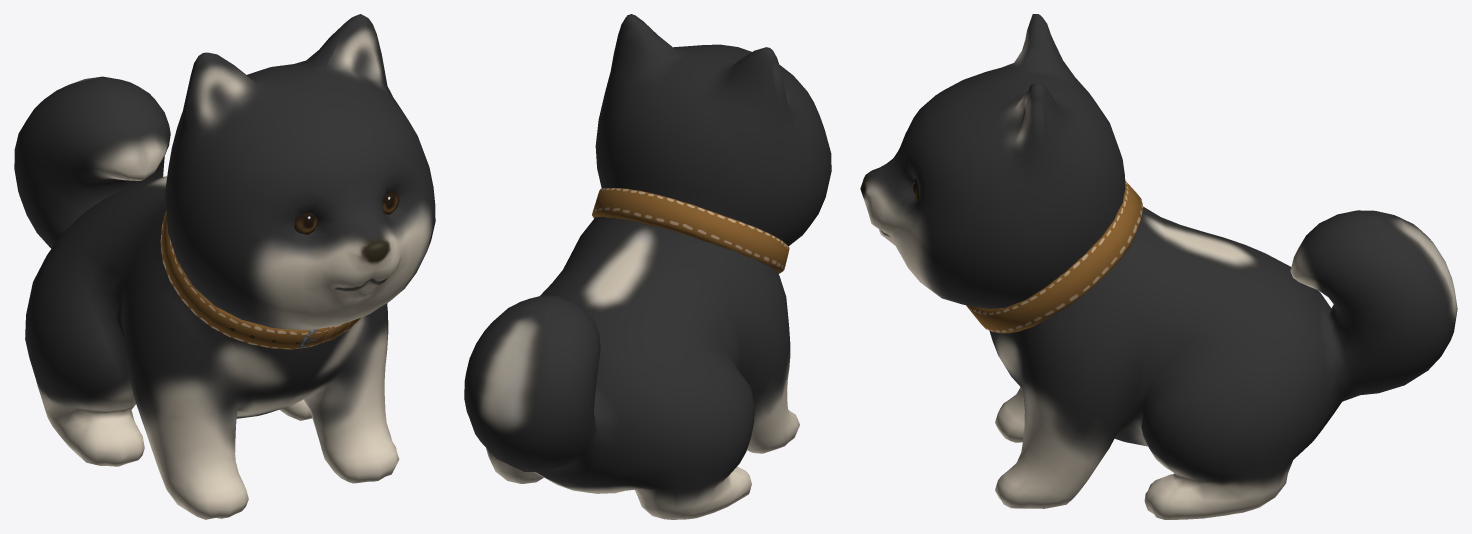
File: shiba2.glb
3 renders of one model, left to right at view 1: azimuth 30°, elevation 25°; view 2: azimuth 150°, elevation 25°; view 3: azimuth 270°, elevation 25°, orthographic. The views are drawn at different scales.
Visible parts, largest first — view 1: Material-material, Material_001-material, Material_002-material; view 2: Material-material, Material_001-material; view 3: Material-material, Material_001-material.
Part boxes in pixels (x1=…): Material-material: x1=14, y1=14, x2=435, y2=519; Material_001-material: x1=160, y1=211, x2=362, y2=349; Material_002-material: x1=294, y1=192, x2=399, y2=234; Material-material: x1=464, y1=14, x2=831, y2=519; Material_001-material: x1=592, y1=188, x2=789, y2=273; Material-material: x1=860, y1=14, x2=1457, y2=519; Material_001-material: x1=966, y1=181, x2=1143, y2=333.
Bounding box in the file's own units: 0.9209 × 1.38 × 1.77.
Materials: 3 (3 with a texture image).
